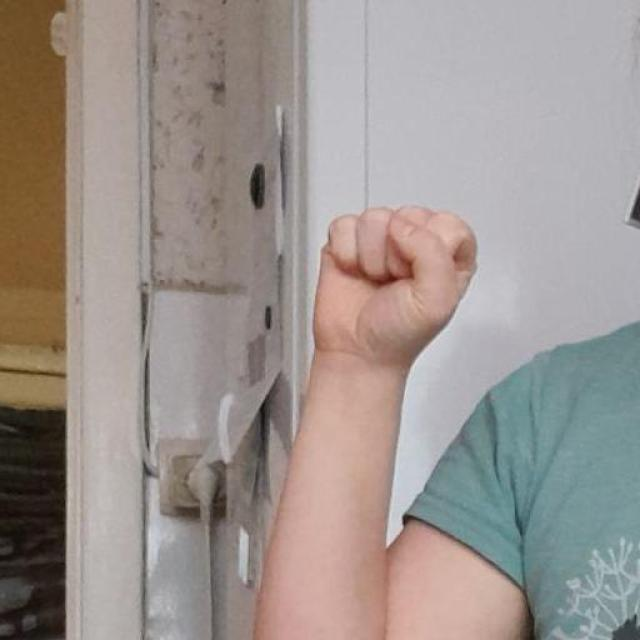hand: (310, 202, 478, 370)
